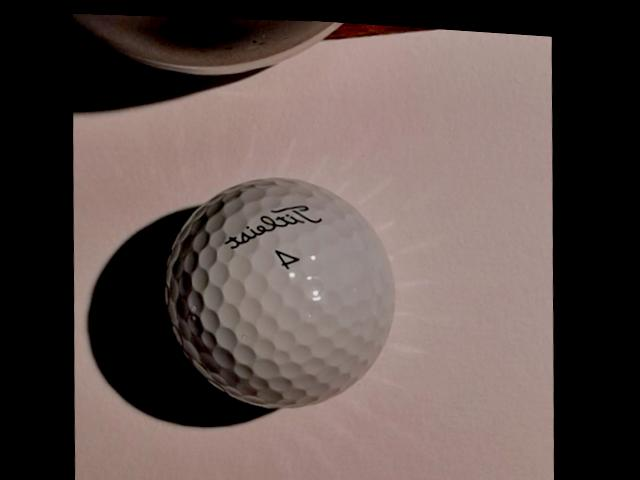Ball: (160, 165, 404, 416)
Titleist: (225, 198, 327, 253)
